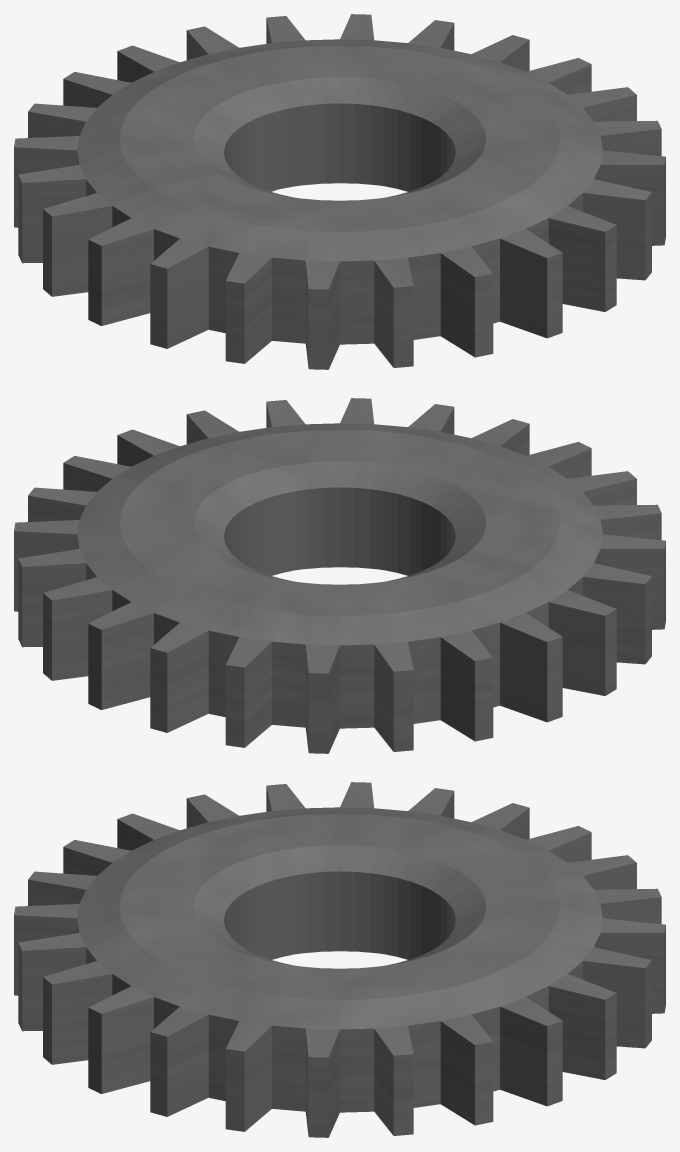
The model's file is cog.gltf.
3 renders of one model, top to bottom at view 1: azimuth 30°, elevation 25°; view 2: azimuth 150°, elevation 25°; view 3: azimuth 270°, elevation 25°, orthographic.
Parts seen in each view (by area): view 1: Cylinder; view 2: Cylinder; view 3: Cylinder.
Part boxes in pixels (bbox=[...]): Cylinder: bbox=[14, 14, 665, 369]; Cylinder: bbox=[14, 398, 665, 753]; Cylinder: bbox=[14, 782, 665, 1137].
Bounding box in the file's own units: 2.48 × 0.4457 × 2.48.
Materials: 1 (1 with a texture image).
